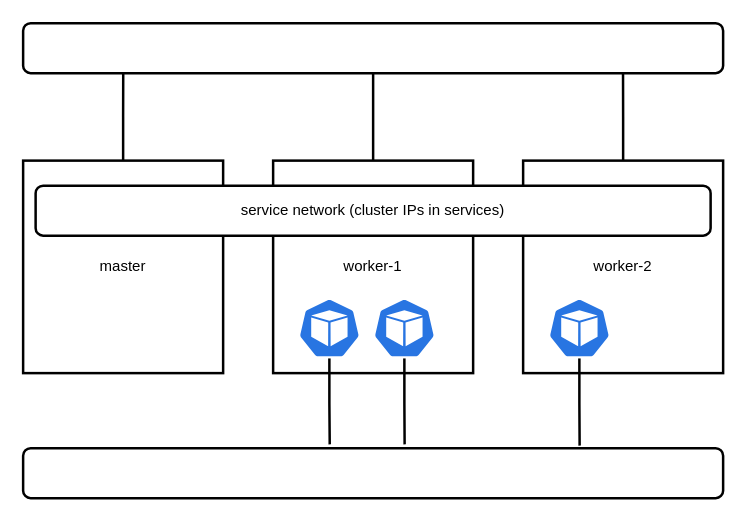
This 745x520 diagram has some shape labels left out. Each missing label, with the box of its shape:
node network: (21, 21, 724, 74)
pod network: (21, 446, 724, 499)
